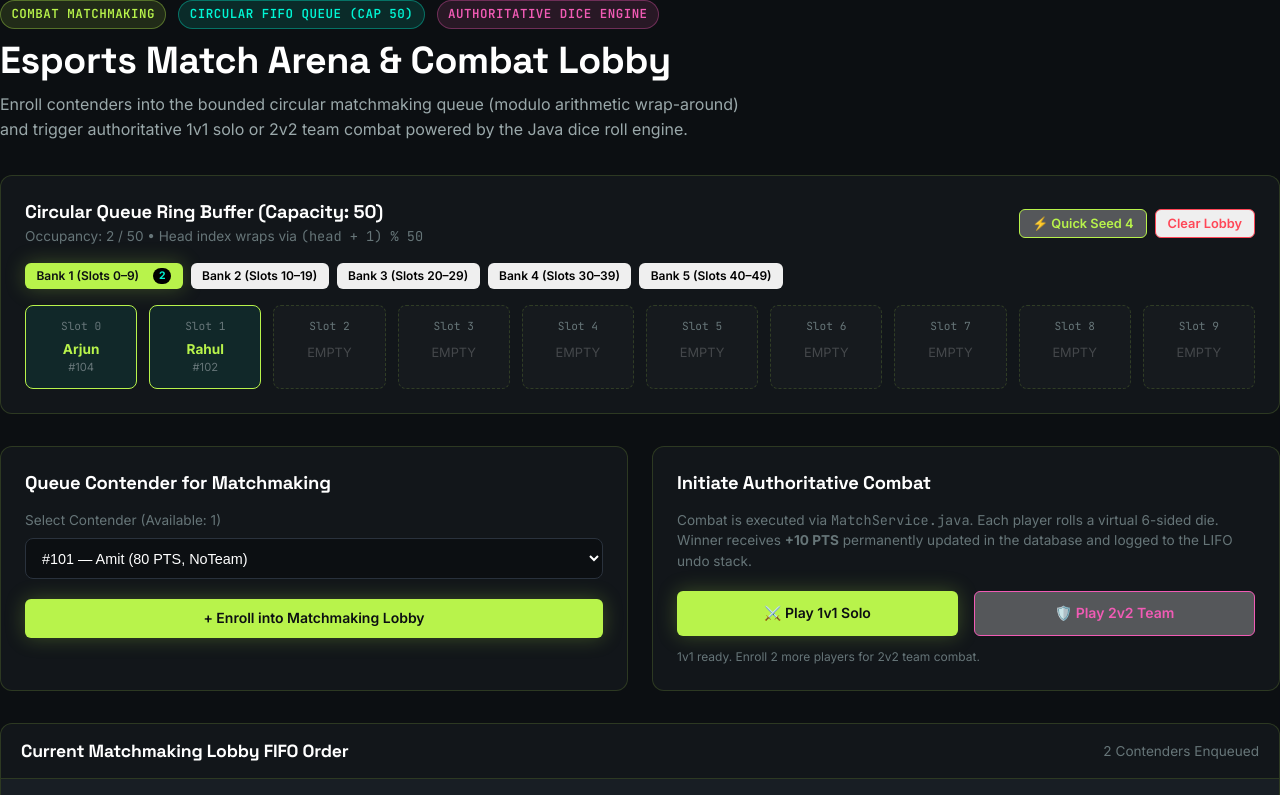
Test case: MatchArenaView Component › renders circular buffer slots and allows playing 1v1 match
Expected: the heading "Circular Queue Ring Buffer (Capacity: 50)" is shown, [25,200,423,223]
Click the button "⚔️ Play 1v1 Solo" at (818, 614), box [677,591,958,636]
(page scrolled)
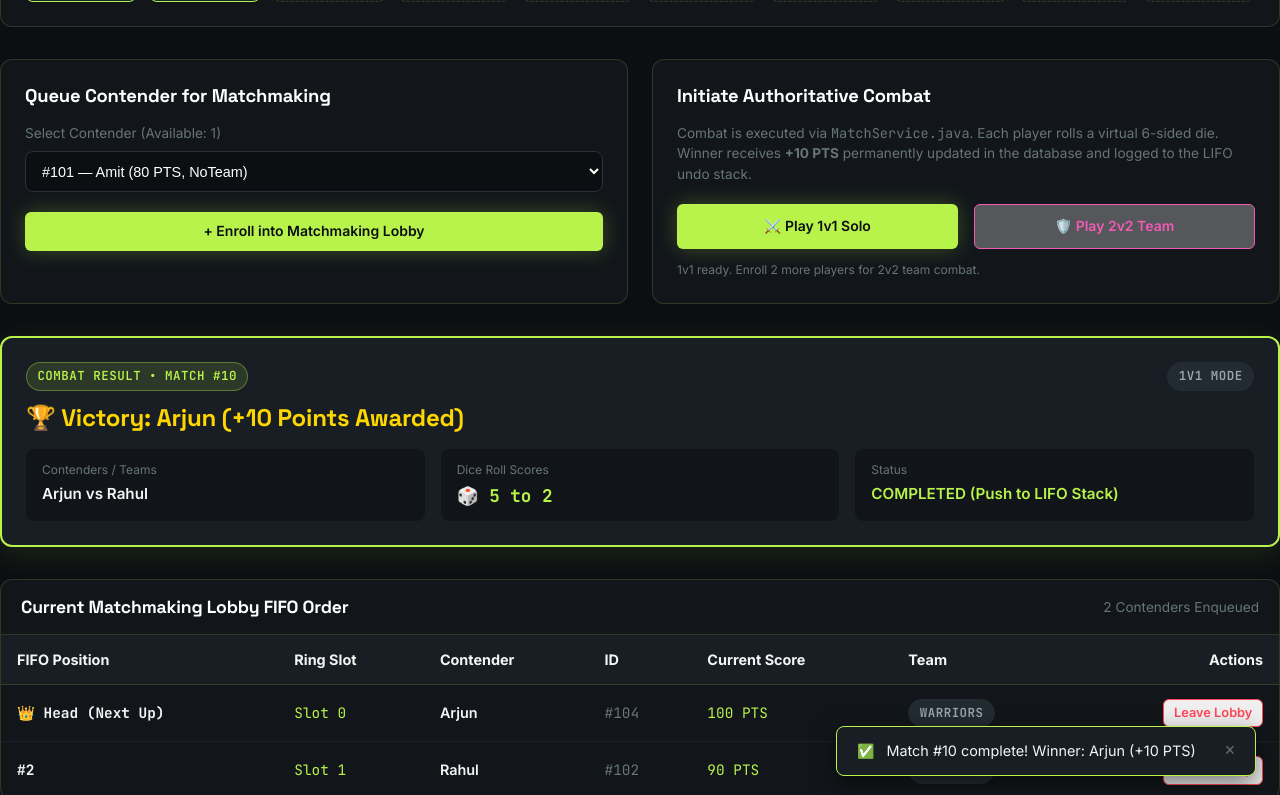
Expected: the heading "🏆 Victory: Arjun (+10 Points Awarded)" is shown, [26,402,464,433]
